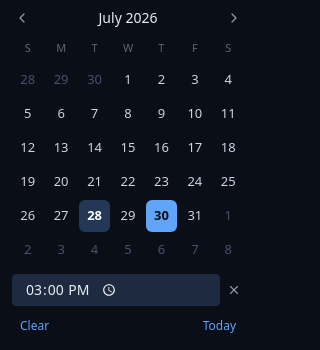
Scenario: DueDatePicker › once a time is set › Escape puts back the stored time
The width and height of the screenshot is (320, 350).
Replace the text in the time field named "Due time" with "18:45" at point(116, 290), box [12,274,220,306]
Then press Escape
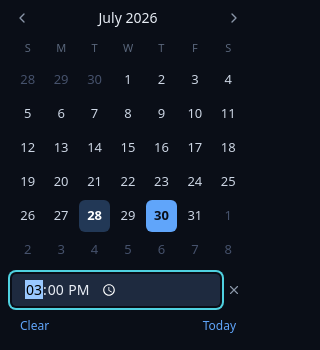
Expected: the time field named "Due time" holds "15:00", [12,274,220,306]
